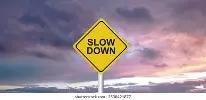Slow: (74, 20, 126, 70)
